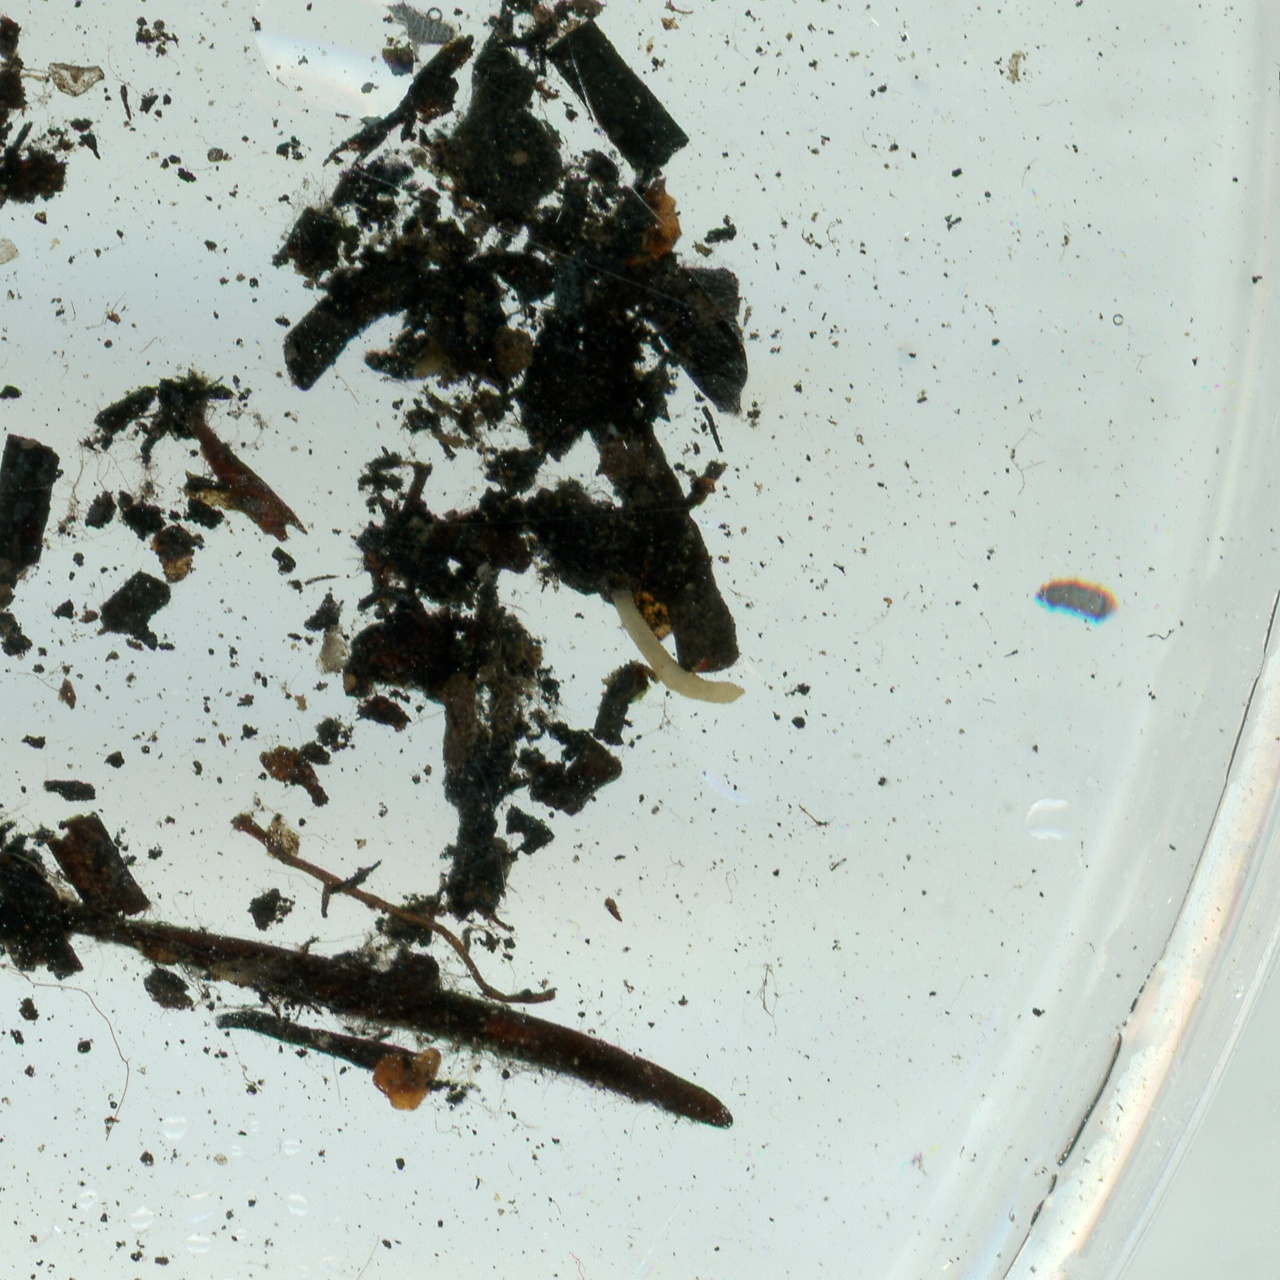arthropod: (1032, 572, 1122, 627), (380, 0, 463, 52)
